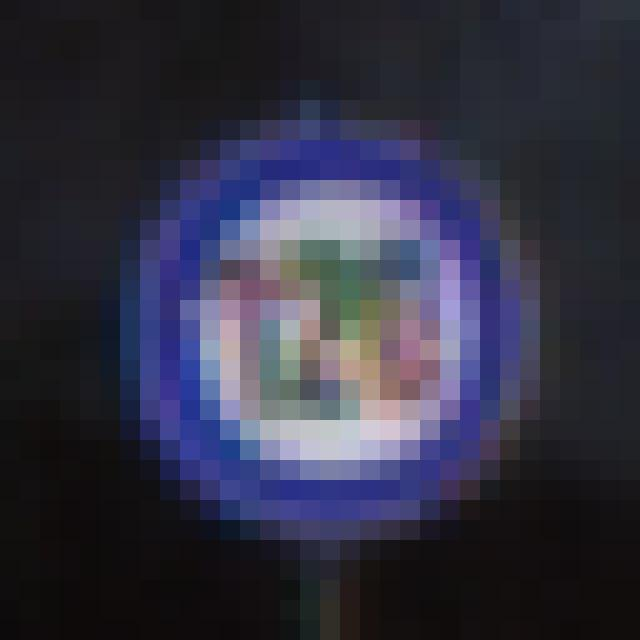SPEED LIMIT 120: (116, 91, 544, 548)
